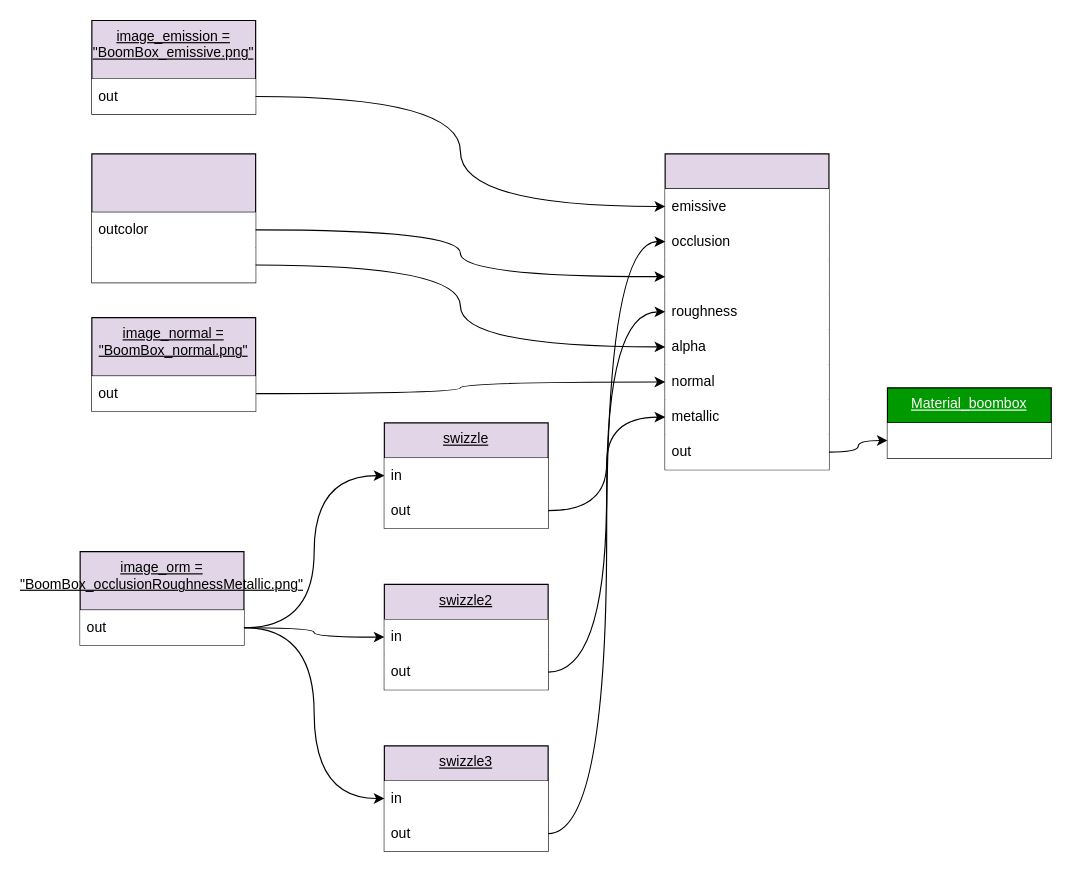
The diagram is 1072 pixels wide and 872 high, and some of its shapes have lost their labels. Here are the shapes that lost their labels. From the top down, the box of each, then its label:
(91, 153, 256, 283): image_basecolor = "BoomBox_baseColor.png"
(91, 247, 255, 282): outa
(665, 259, 828, 294): base_color
(664, 153, 829, 470): SR_boombox
(887, 422, 1051, 457): surfaceshader
